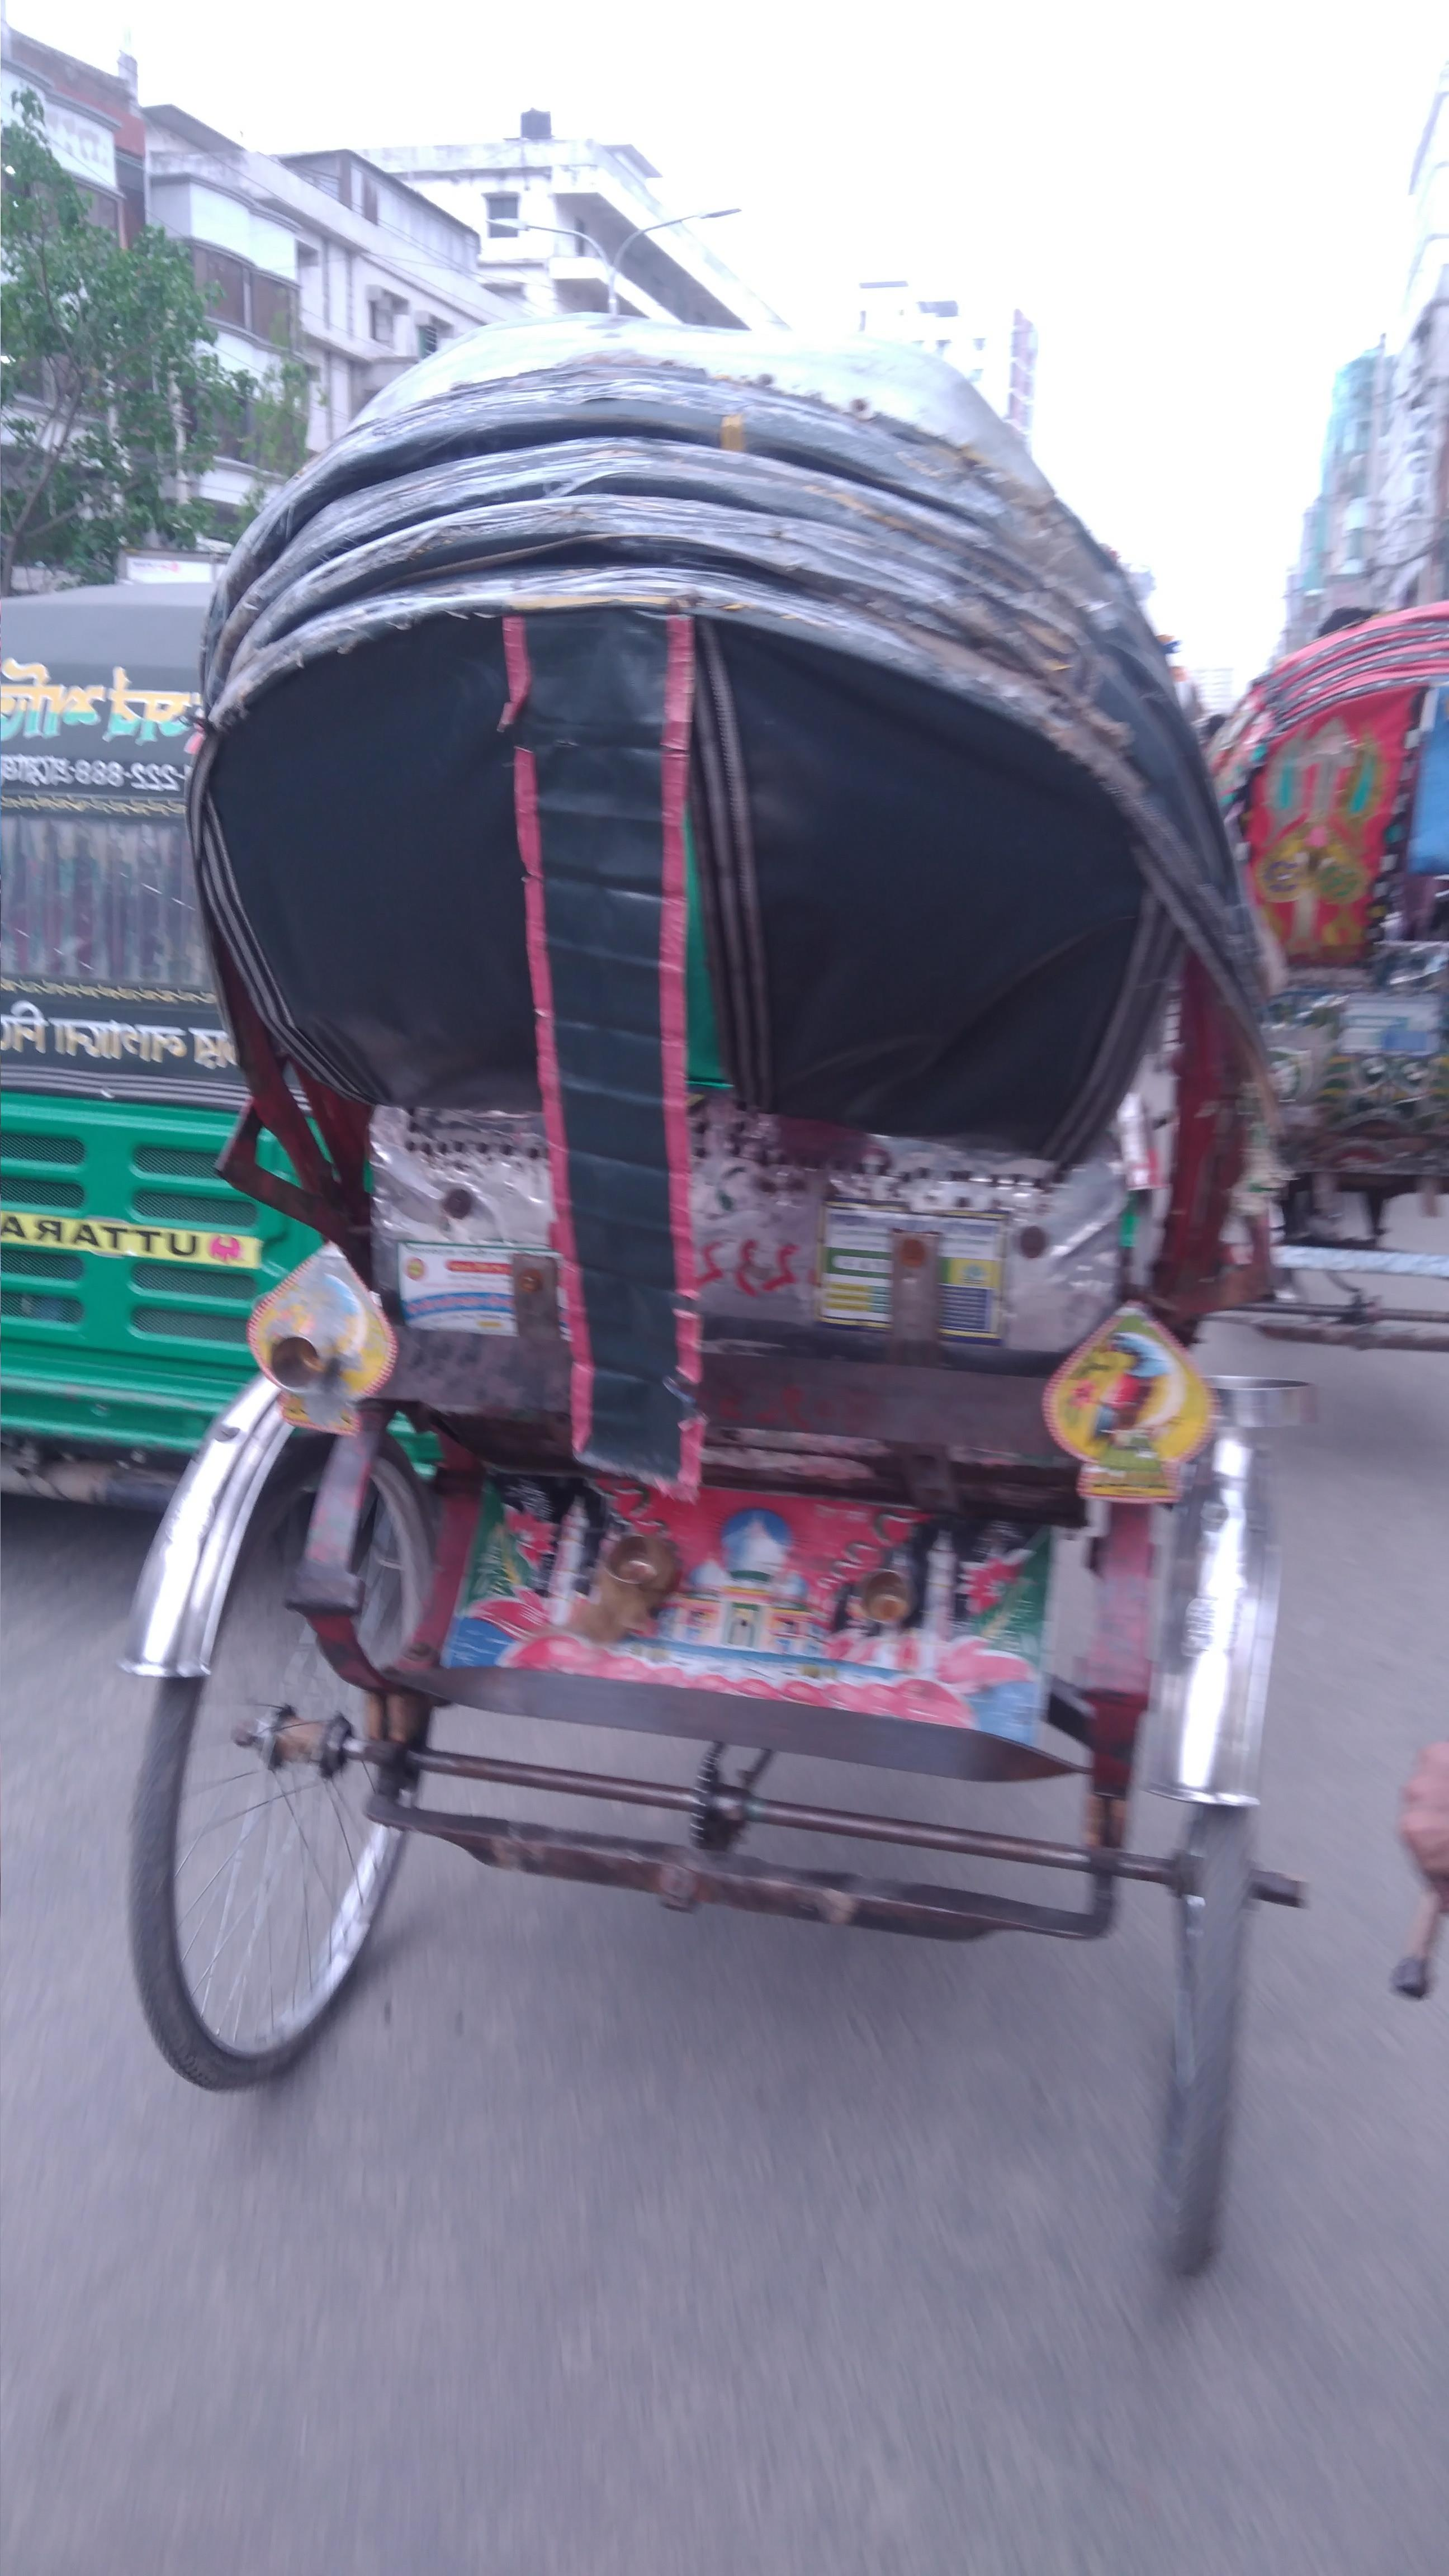Rickshaw: (156, 264, 1311, 2289), (1171, 540, 1444, 1391)
